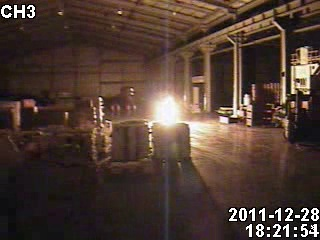fire: (155, 93, 179, 127)
